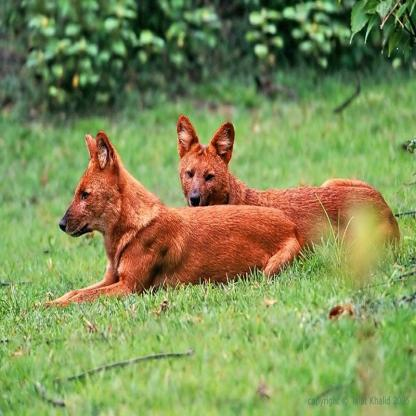dhole: (31, 128, 309, 312), (175, 112, 399, 277)
